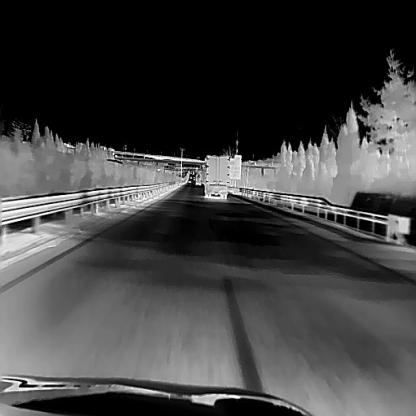truck: (202, 154, 230, 198), (194, 173, 201, 185)
